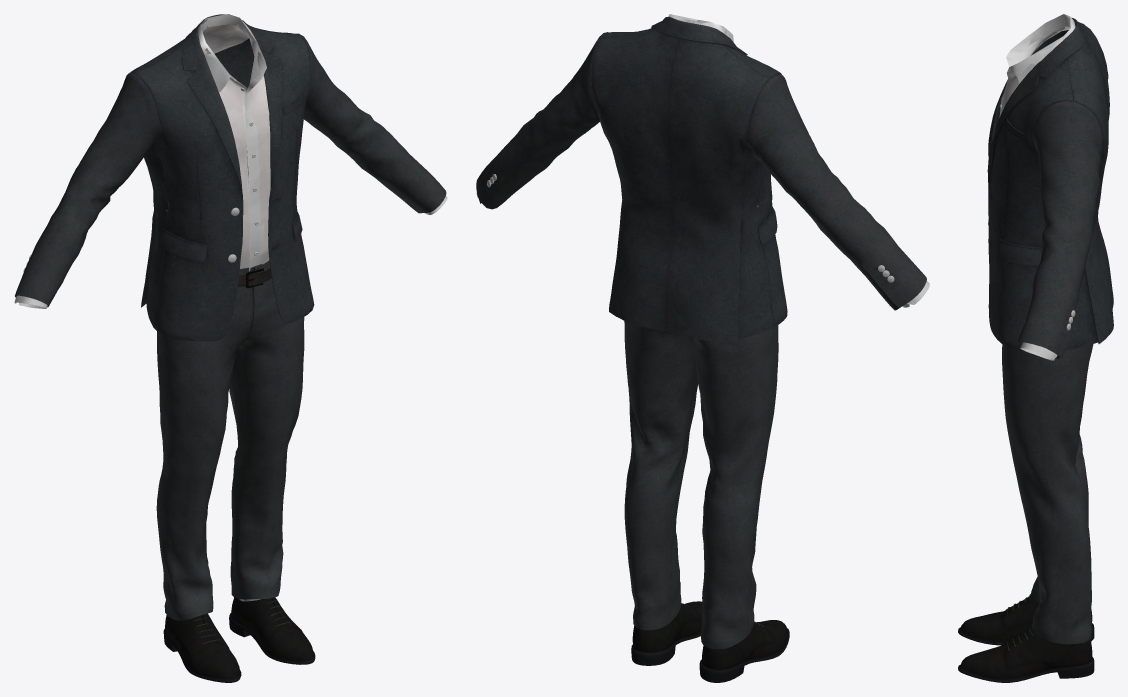
Rendered from black_suit-transformed.glb.
The picture shows the model from 3 angles, left to right: view 1: azimuth 30°, elevation 25°; view 2: azimuth 150°, elevation 25°; view 3: azimuth 270°, elevation 25°; orthographic projection. The views are drawn at different scales.
Parts seen in each view (by area): view 1: Object_14, Object_10, Object_22, Object_4; view 2: Object_14, Object_10, Object_4; view 3: Object_14, Object_10, Object_4, Object_22, Object_18.
Boxes of the visible parts, left/top/right/bottom form: Object_14: left=15, top=14, right=446, bottom=341; Object_10: left=156, top=260, right=304, bottom=620; Object_22: left=166, top=14, right=270, bottom=271; Object_4: left=163, top=597, right=315, bottom=682; Object_14: left=476, top=16, right=926, bottom=341; Object_10: left=624, top=321, right=778, bottom=649; Object_4: left=631, top=601, right=789, bottom=682; Object_14: left=987, top=18, right=1113, bottom=358; Object_10: left=1002, top=344, right=1093, bottom=644; Object_4: left=958, top=594, right=1094, bottom=682; Object_22: left=999, top=14, right=1075, bottom=117; Object_18: left=1020, top=342, right=1057, bottom=360.
Bounding box in the file's own units: 1.17 × 1.62 × 0.3623.
Materials: 8 (8 with a texture image).
